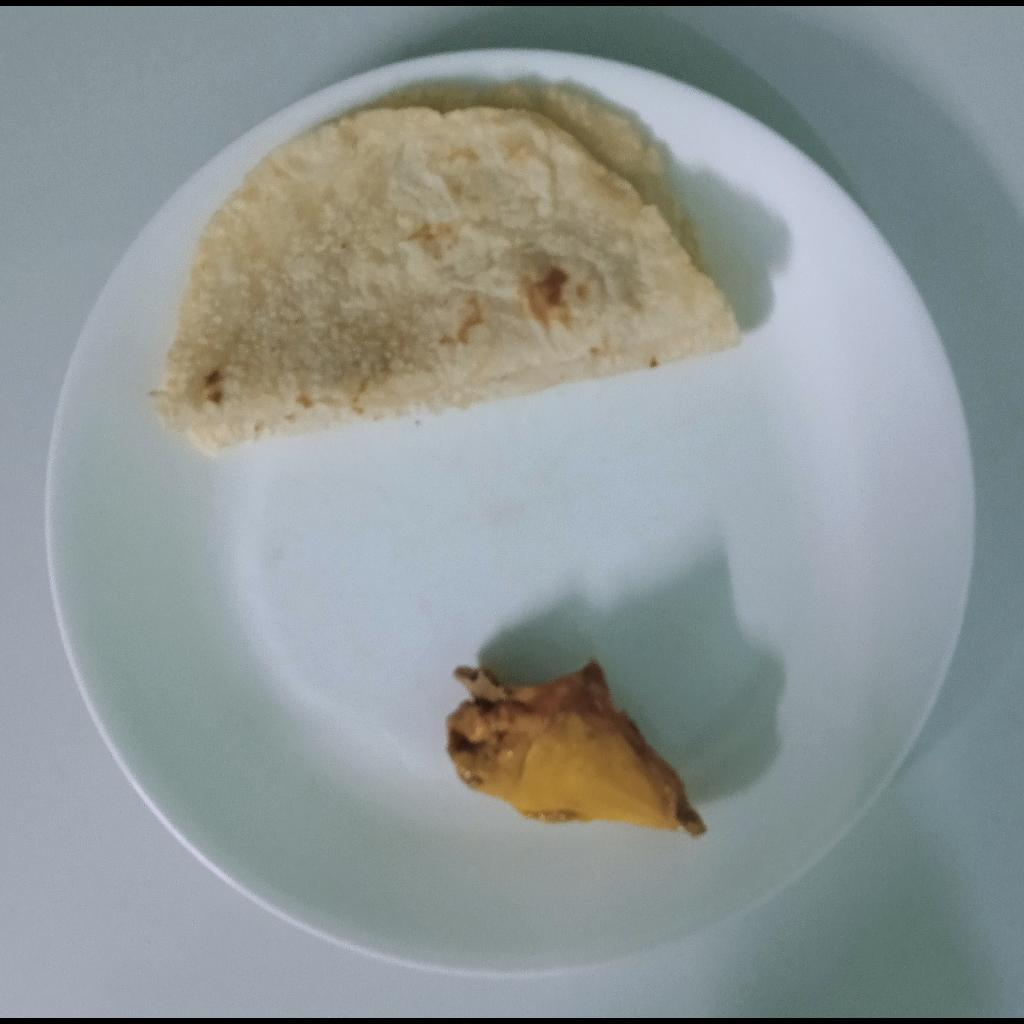chicken: (447, 659, 712, 843)
ruti: (151, 86, 743, 458)
